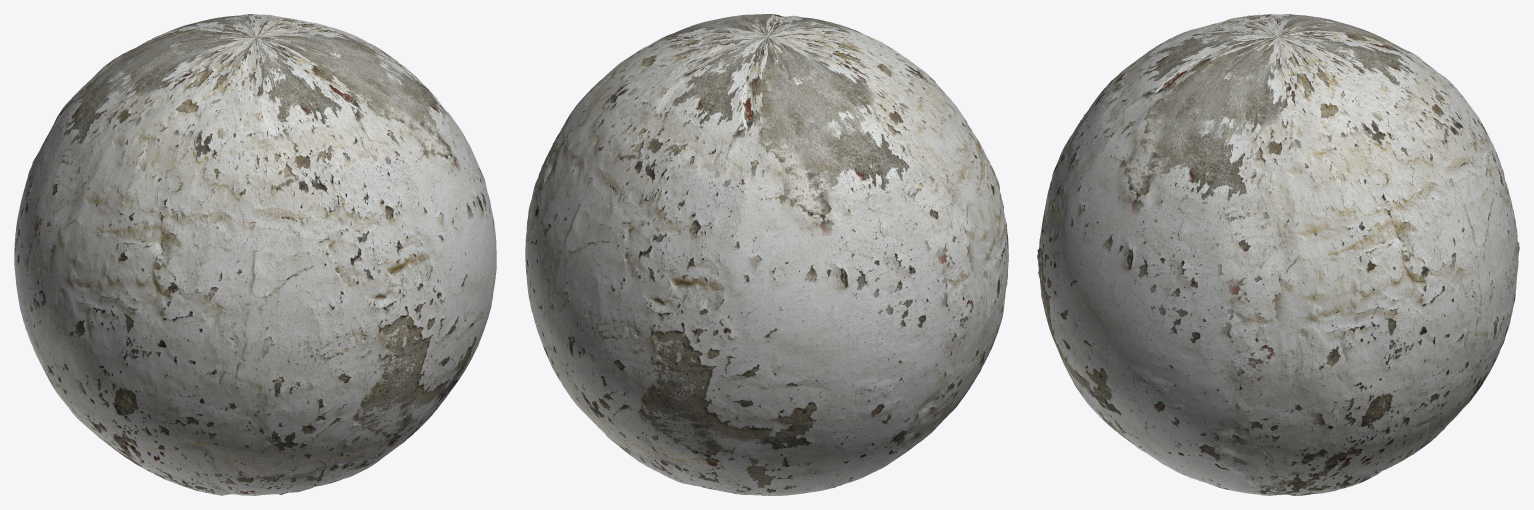
Rendered from white_rough_plaster_1k.gltf.
The picture shows the model from 3 angles, left to right: view 1: azimuth 30°, elevation 25°; view 2: azimuth 150°, elevation 25°; view 3: azimuth 270°, elevation 25°; orthographic projection.
Visible parts, largest first — view 1: sphere_gltf; view 2: sphere_gltf; view 3: sphere_gltf.
Boxes of the visible parts, x1,y1,x2,y2 form: sphere_gltf: [14, 14, 496, 495]; sphere_gltf: [525, 14, 1008, 495]; sphere_gltf: [1037, 14, 1519, 495].
Bounding box in the file's own units: 0.9986 × 1 × 1.
Materials: 1 (1 with a texture image).
